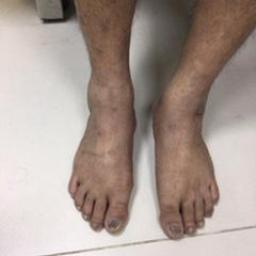Dorsal View -Both Feet-: (61, 50, 232, 248)
